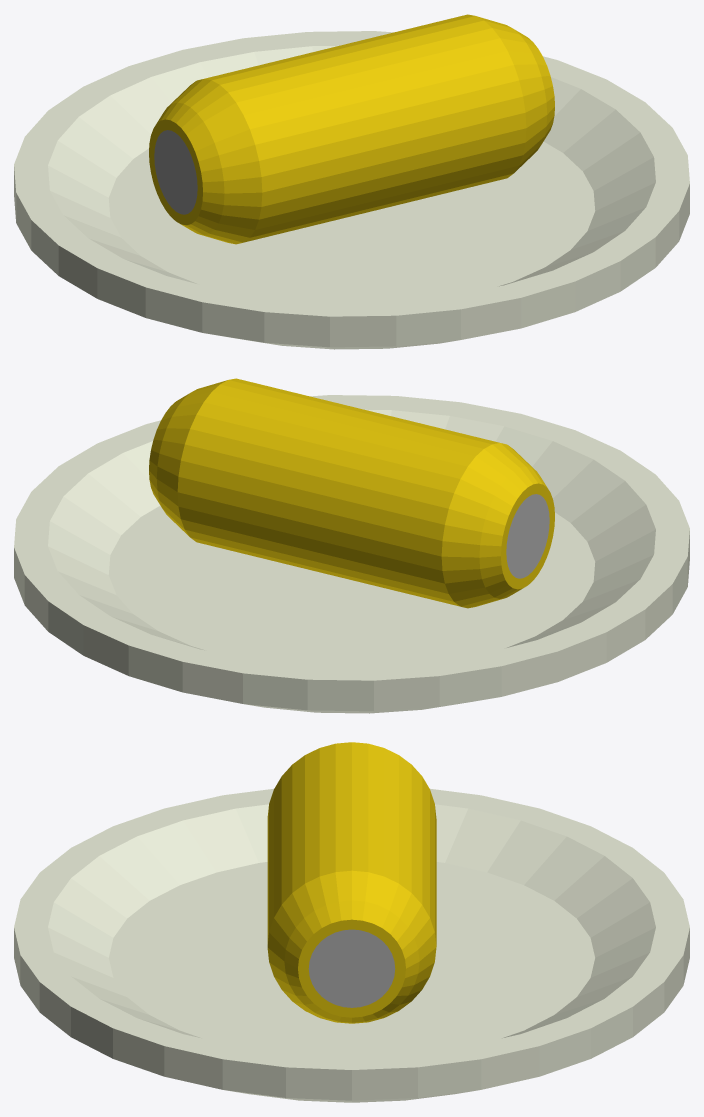
Rendered from Corn.fbx.
3 views of the same model, one above another, from view 1: azimuth 30°, elevation 25°; view 2: azimuth 150°, elevation 25°; view 3: azimuth 270°, elevation 25° (orthographic).
Parts seen in each view (by area): view 1: Cylinder; view 2: Cylinder; view 3: Cylinder.
Part boxes in pixels (bbox=[...]): Cylinder: bbox=[14, 14, 689, 349]; Cylinder: bbox=[14, 378, 689, 713]; Cylinder: bbox=[14, 742, 689, 1102].
Size of the model in its own units: 200 by 59.45 by 200.
